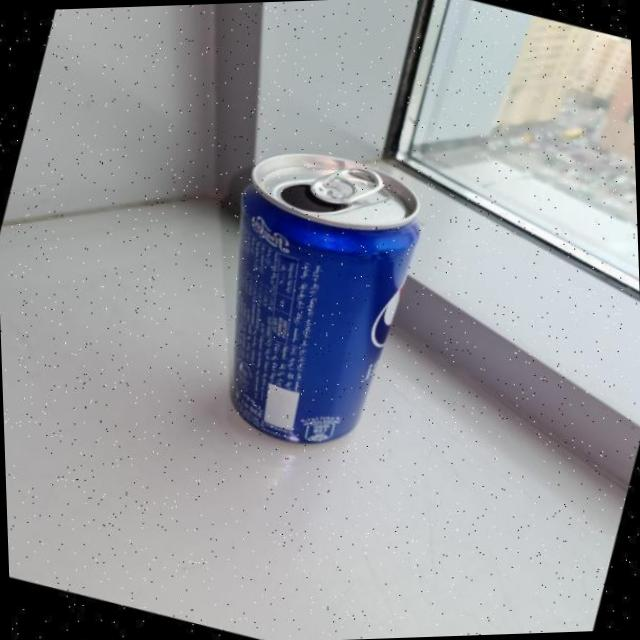can: (216, 144, 429, 451)
